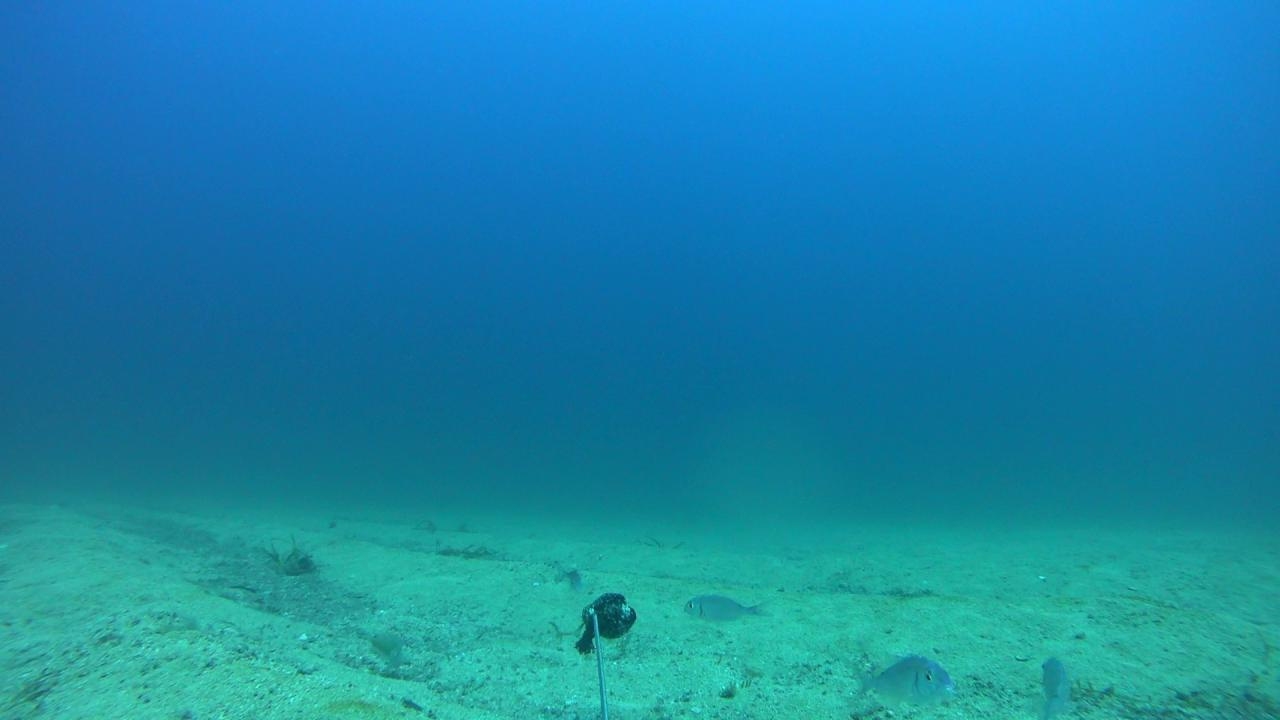pagellus: (848, 654, 955, 707), (682, 594, 773, 622)
